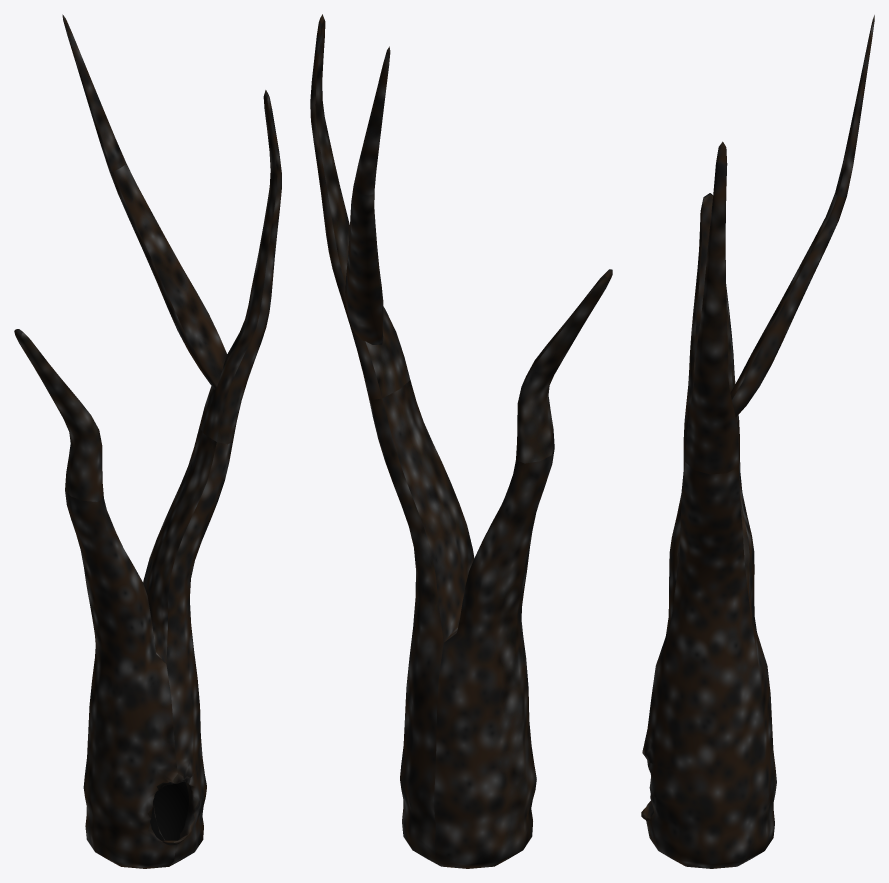
The model's file is BIGtree.fbx.
3 views of the same model, side by side, from view 1: azimuth 30°, elevation 25°; view 2: azimuth 150°, elevation 25°; view 3: azimuth 270°, elevation 25° (orthographic). The views are drawn at different scales.
Parts seen in each view (by area): view 1: Cylinder.002; view 2: Cylinder.002; view 3: Cylinder.002.
Part boxes in pixels (left/top/right/bottom): Cylinder.002: left=14, top=14, right=281, bottom=868; Cylinder.002: left=310, top=14, right=612, bottom=868; Cylinder.002: left=641, top=15, right=874, bottom=868.
Bounding box in the file's own units: 1640 × 1162 × 4600.
1 material, 1 textured.
